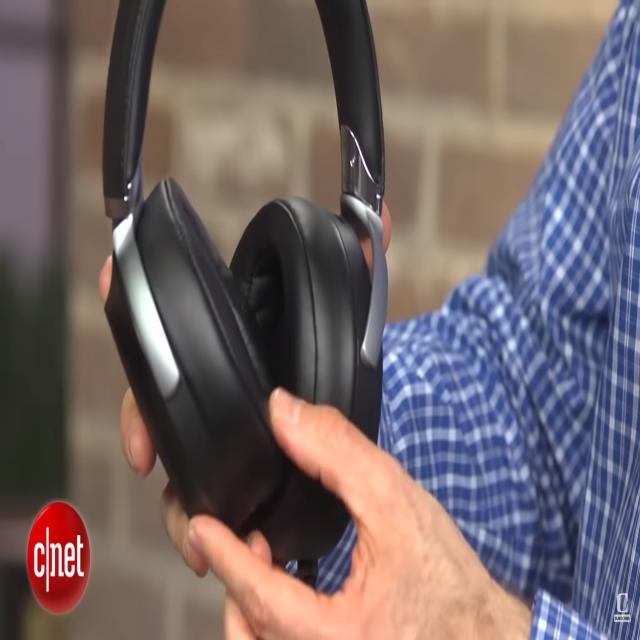Headphone: (102, 1, 388, 560)
